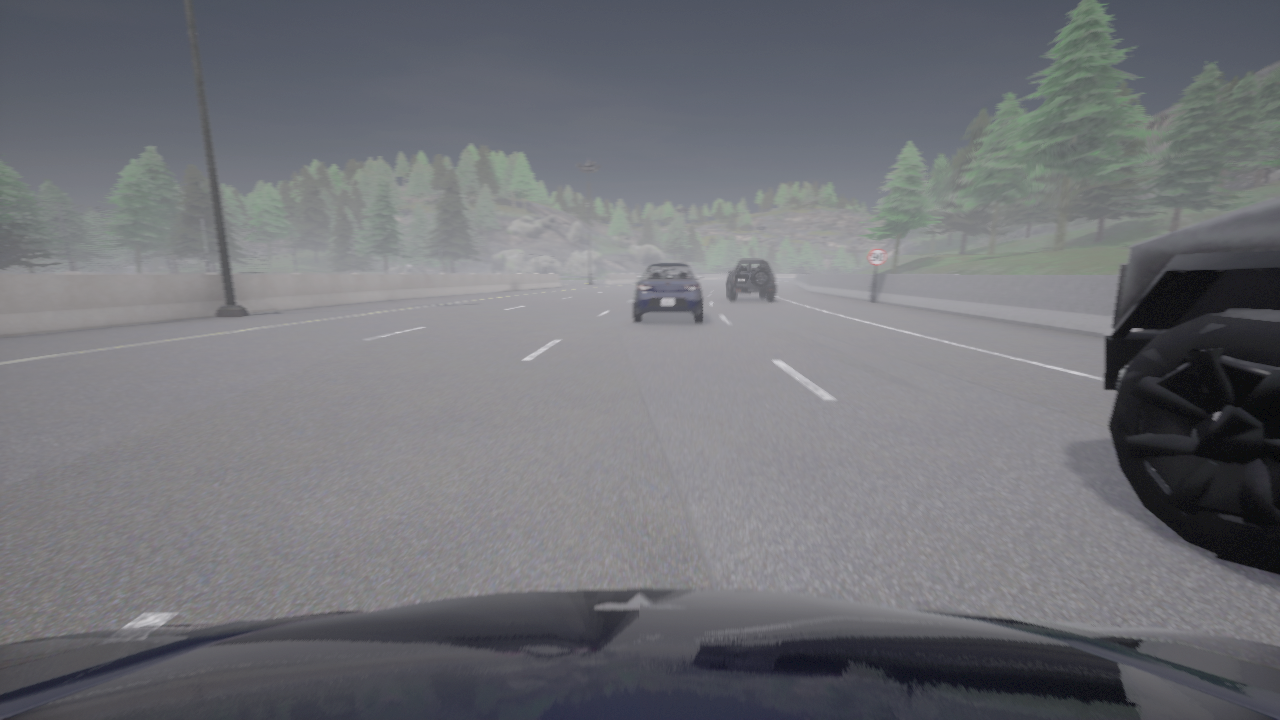cyclist: (0, 588, 1279, 719), (1103, 196, 1279, 574), (632, 262, 703, 323), (726, 259, 775, 300)
